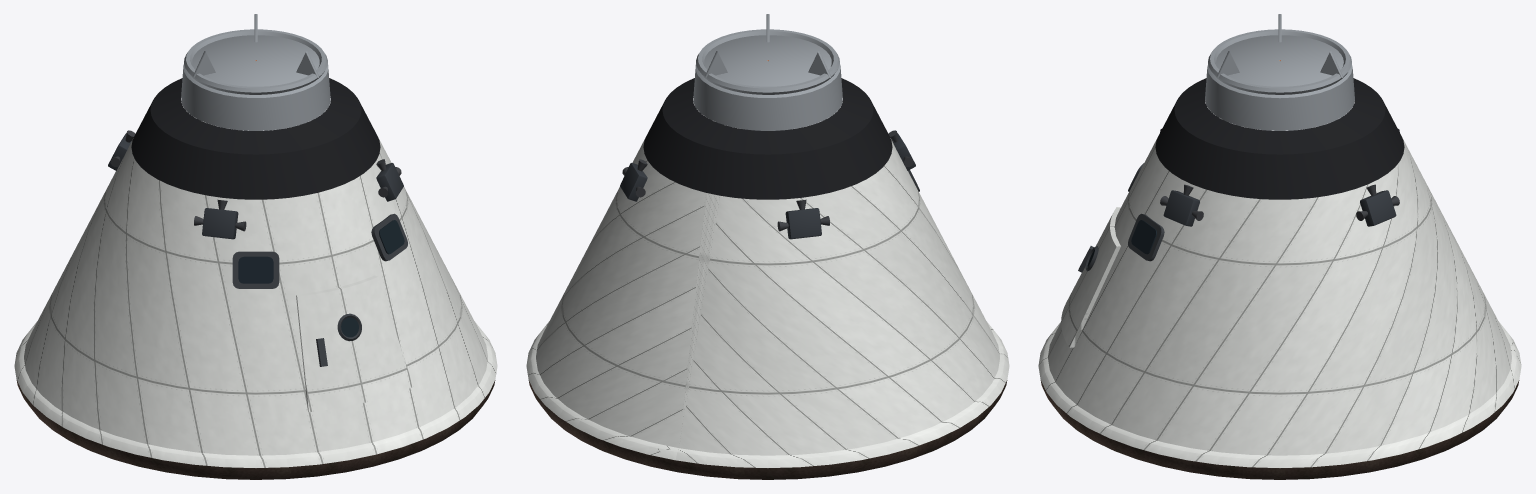
Rendered from space-capsule.glb.
The picture shows the model from 3 angles, left to right: view 1: azimuth 30°, elevation 25°; view 2: azimuth 150°, elevation 25°; view 3: azimuth 270°, elevation 25°; orthographic projection.
Visible parts, largest first — view 1: Capsule, Hatch; view 2: Capsule; view 3: Capsule, Hatch.
Boxes of the visible parts, bbox=[...] form: Capsule: bbox=[14, 14, 497, 479]; Hatch: bbox=[296, 275, 413, 412]; Capsule: bbox=[526, 14, 1009, 479]; Capsule: bbox=[1038, 14, 1521, 479]; Hatch: bbox=[1061, 207, 1120, 347].
Size of the model in its own units: 4.12 by 3.52 by 4.12.
11 materials, 2 textured.
